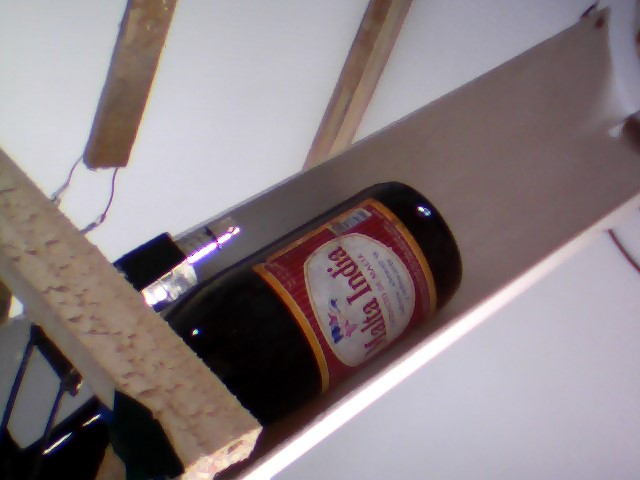vidrio: (161, 175, 470, 424)
